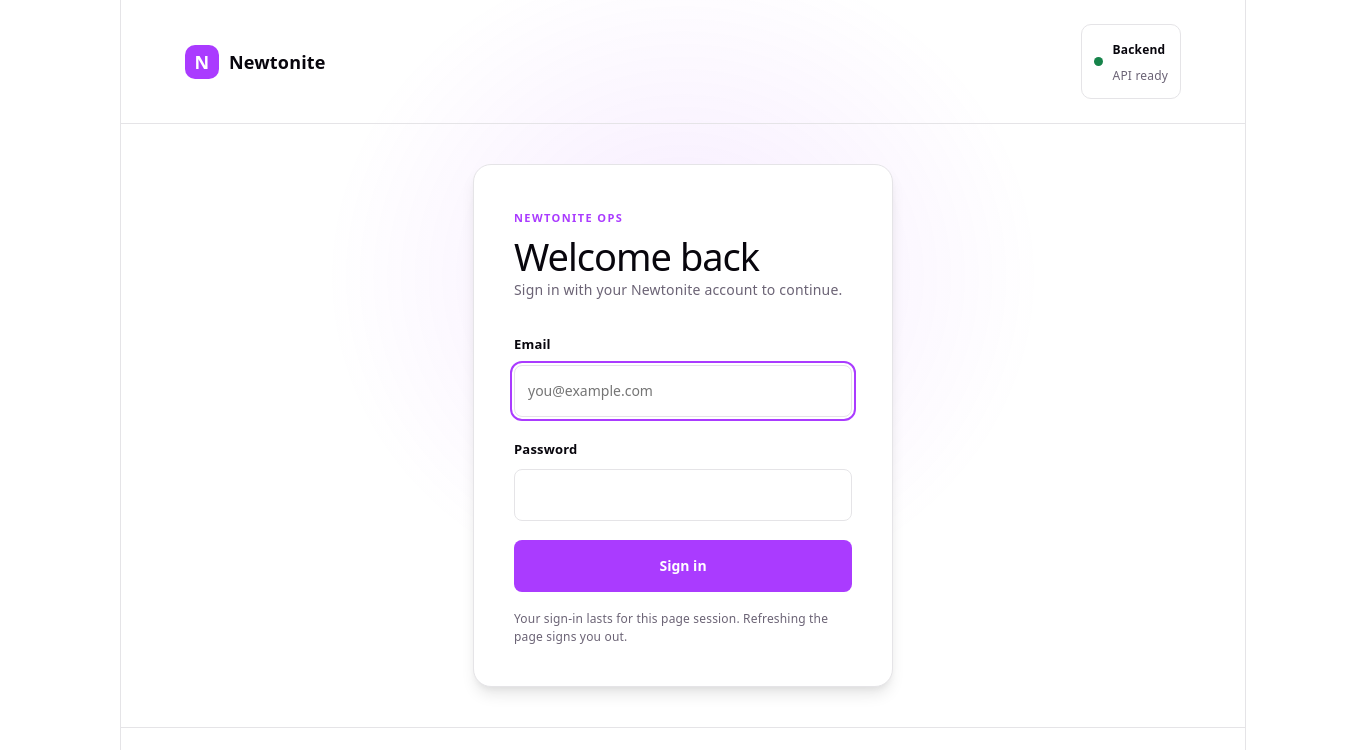
Scenario: dashboard › retries a failed request and manually refreshes metrics
Type "morgan@example.test" into the field labelled "Email". click: (683, 391)
box: [514,365,852,417]
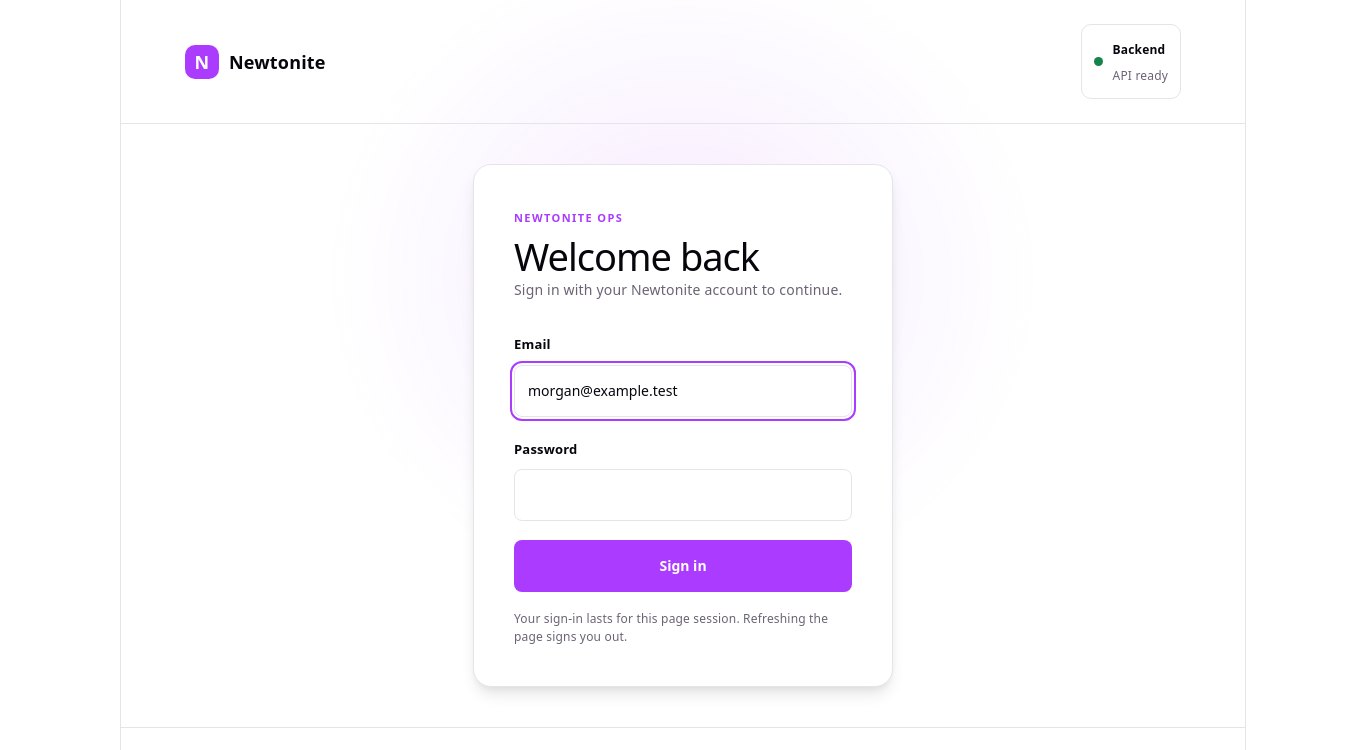
Type "safe-test-password" into the password field labelled "Password". click: (683, 495)
box: [514,469,852,521]
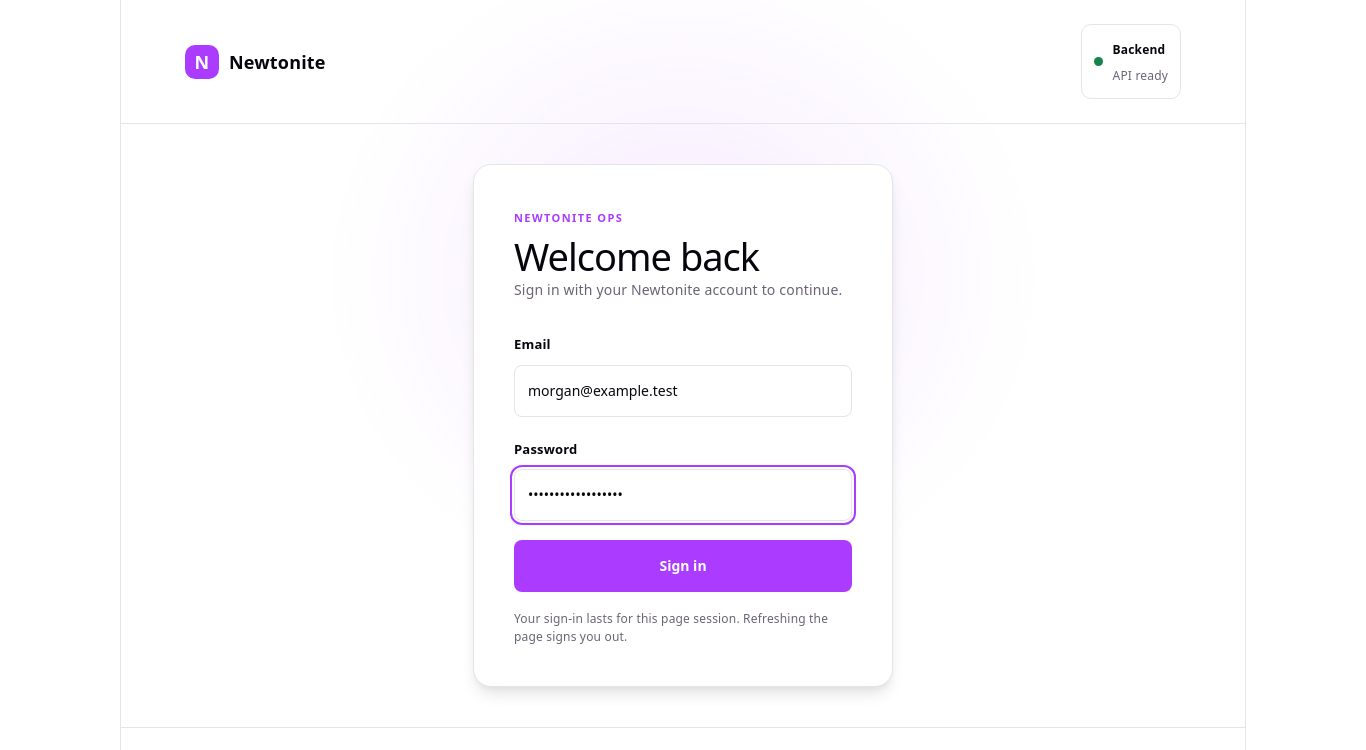
Click the button "Sign in". click: (683, 566)
box: [514,540,852,592]
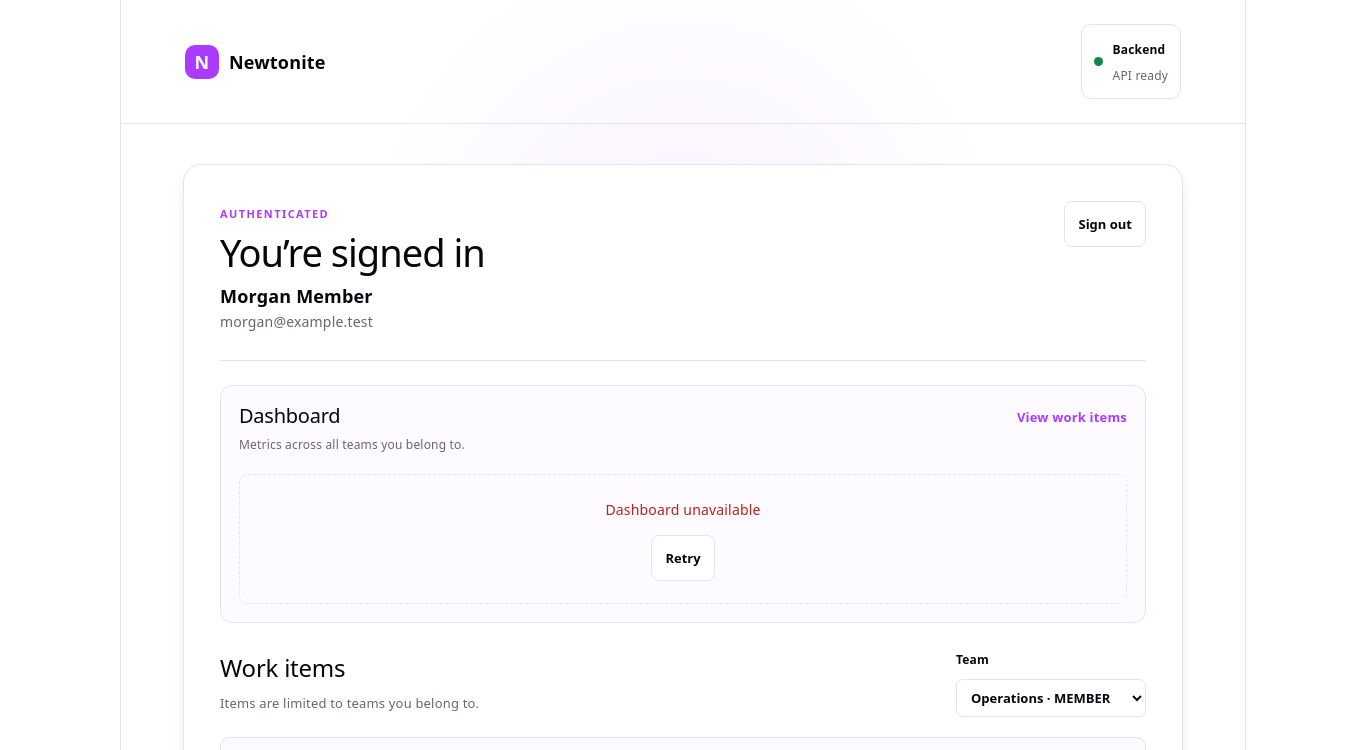
Check: the text "Dashboard unavailable" is shown, box [605,500,761,519]
Click the button "Retry". click: (683, 558)
box: [651,535,715,581]
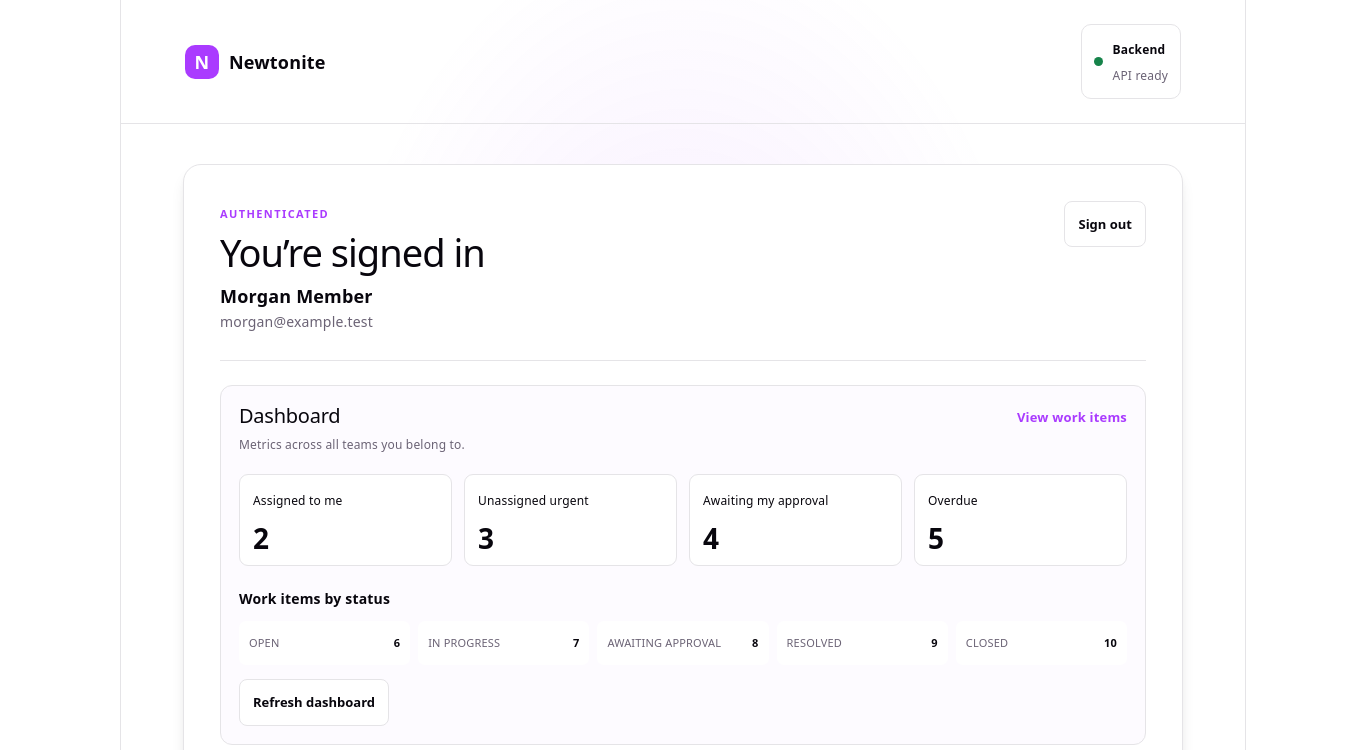
Check: the text "Assigned to me" is shown, box [253,492,342,509]
Check: the text "2" is shown, box [253,519,269,557]
Click the button "Refresh dashboard". click: (314, 702)
box: [239,679,389,726]
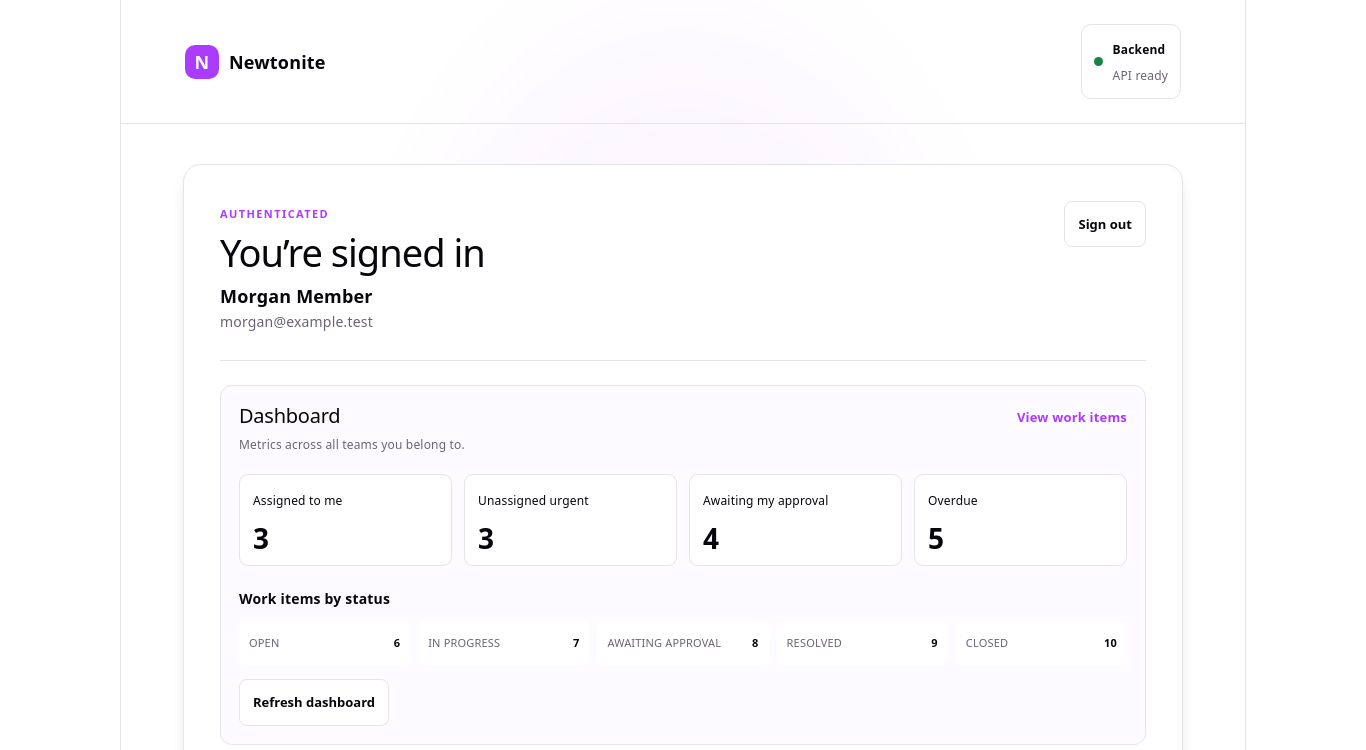
Check: the text "3" below "Assigned to me" is shown, box [253,519,269,557]
